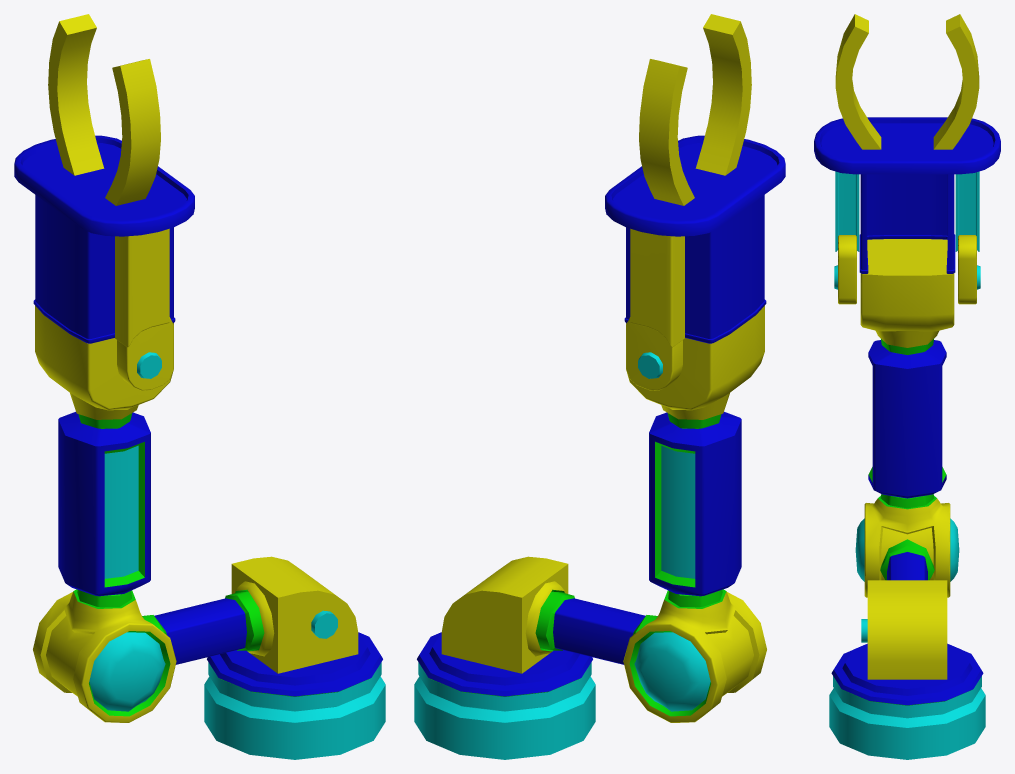
Rendered from DM005_Scifi_MechArm_01 1.fbx.
The picture shows the model from 3 angles, left to right: view 1: azimuth 30°, elevation 25°; view 2: azimuth 150°, elevation 25°; view 3: azimuth 270°, elevation 25°; orthographic projection. The views are drawn at different scales.
Parts seen in each view (by area): view 1: Cylinder.011, Cylinder.010, Plane.004, Cylinder.012, Cylinder.007, Cube.001; view 2: Cylinder.011, Cylinder.010, Plane.004, Cylinder.012, Cylinder.007, Cube.001; view 3: Cylinder.010, Cylinder.011, Plane.004, Cylinder.012, Cylinder.007, Cube.001.
Part boxes in pixels (x1,y1,x2,y2): Cylinder.011: [33, 411, 176, 722]; Cylinder.010: [33, 195, 175, 419]; Plane.004: [14, 14, 194, 236]; Cylinder.012: [204, 632, 385, 759]; Cylinder.007: [231, 556, 358, 673]; Cube.001: [142, 591, 264, 664]; Cylinder.011: [623, 411, 766, 722]; Cylinder.010: [624, 195, 766, 419]; Plane.004: [605, 14, 785, 236]; Cylinder.012: [414, 632, 595, 759]; Cylinder.007: [441, 556, 568, 673]; Cube.001: [535, 591, 657, 664]; Cylinder.010: [834, 171, 980, 347]; Cylinder.011: [855, 338, 959, 597]; Plane.004: [814, 14, 1000, 174]; Cylinder.012: [829, 643, 985, 759]; Cylinder.007: [861, 580, 947, 679]; Cube.001: [880, 539, 934, 580].
Size of the model in its own units: 155 by 266 by 572.
